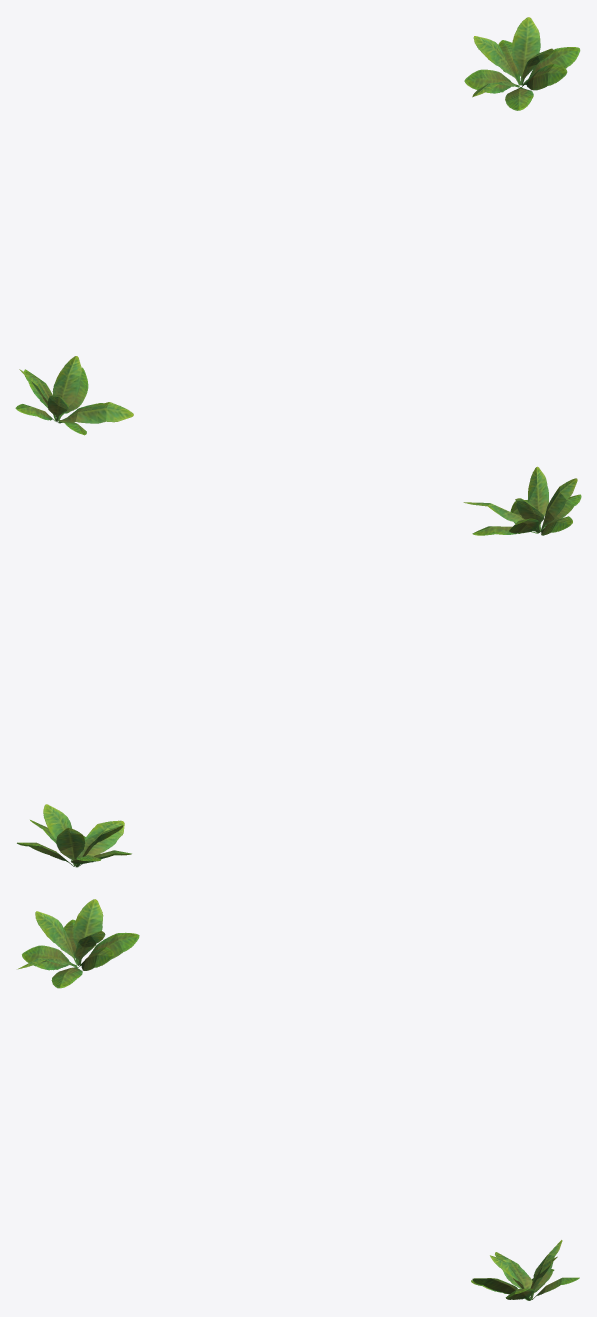
File: Area_02_15.fbx
3 renders of one model, top to bottom at view 1: azimuth 30°, elevation 25°; view 2: azimuth 210°, elevation 25°; view 3: azimuth 270°, elevation 25°, orthographic.
Parts seen in each view (by area): view 1: Area_02_15; view 2: Area_02_15; view 3: Area_02_15.
Part boxes in pixels (x1,y1,x2,y2): Area_02_15: (15, 17, 580, 435); Area_02_15: (17, 466, 581, 867); Area_02_15: (17, 899, 579, 1300).
Bounding box in the file's own units: 1157 × 82.73 × 725.
